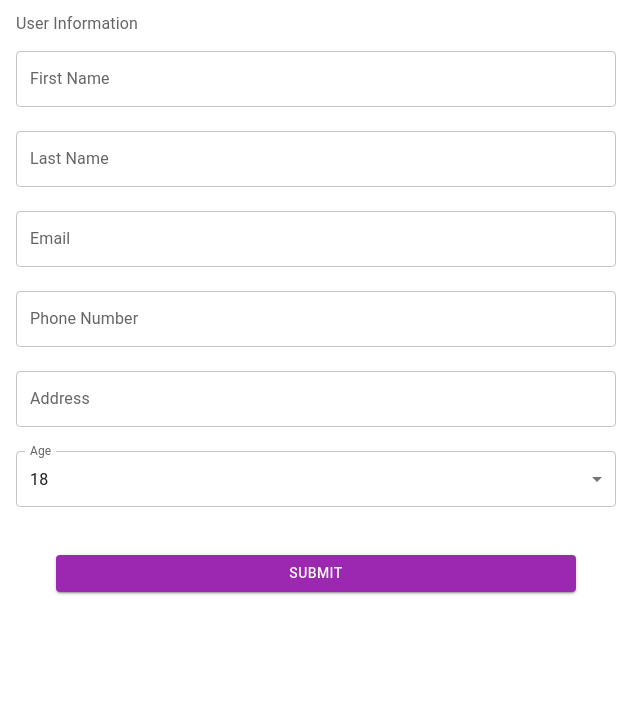
Test: UserForm component › validateForm returns false when required fields are missing
Click the button "Submit": coordinates (316, 573) [56,555,576,592]
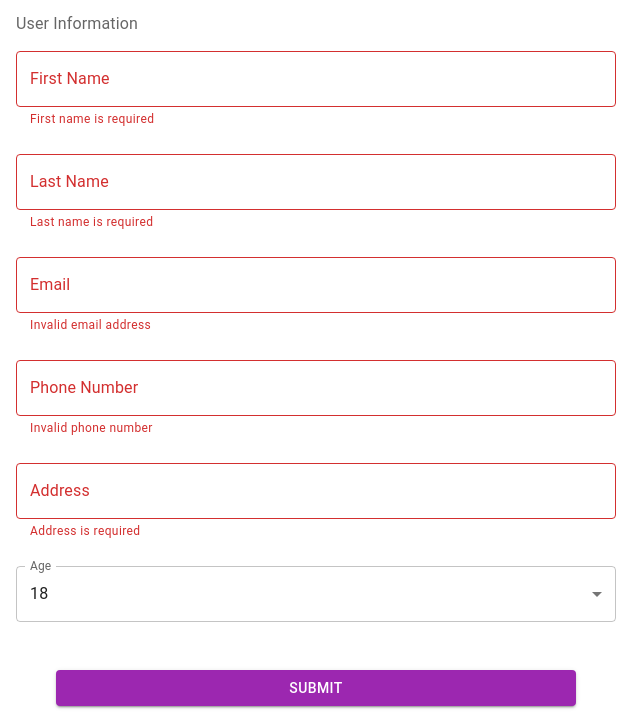
Check: the text "First name is required" is shown, box [30,112,154,126]
Check: the text "Last name is required" is shown, box [30,215,153,229]
Check: the text "Invalid email address" is shown, box [30,318,151,332]
